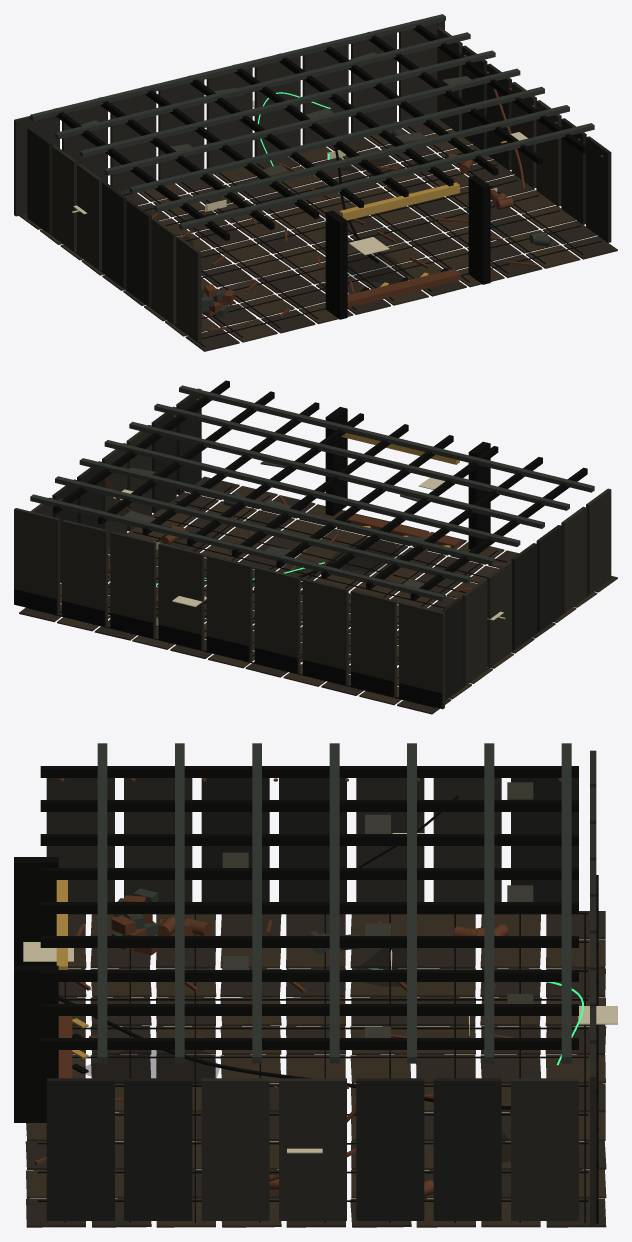
The model's file is dz_shelter_full_room_shell_premium.glb.
3 renders of one model, top to bottom at view 1: azimuth 30°, elevation 25°; view 2: azimuth 150°, elevation 25°; view 3: azimuth 270°, elevation 25°, orthographic. The views are drawn at different scales.
Parts seen in each view (by area): view 1: ceiling rib 2.85, ceiling rib 4.1, ceiling rib 0.35, ceiling rib 6.6, ceiling rib 5.35, ceiling rib 7.85, ceiling rib 1.6, back wall metal bay -2.7999999999999994, back wall metal bay 1.4000000000000004, back wall metal bay 4.440892098500626e-16, back wall metal bay 4.2, back wall metal bay -1.3999999999999995 (+74 smaller); view 2: back wall metal bay -1.3999999999999995, back wall metal bay -2.7999999999999994, back wall metal bay 2.8000000000000003, back wall metal bay 4.440892098500626e-16, back wall metal bay 4.2, back wall metal bay 5.6, back wall metal bay -5.6, back wall metal bay -4.199999999999999, back wall metal bay 1.4000000000000004, ceiling rib 2.85, ceiling rib 7.85, ceiling rib 4.1 (+45 smaller); view 3: right wall bay 1.95, right wall bay 3.2, right wall bay 5.7, right wall bay 6.95, right wall bay 8.2, right wall bay 0.7, right wall bay 4.45, exit tunnel return wall 2.08, ceiling long runner -5.2, ceiling long runner -3.9000000000000004, ceiling long runner -2.6000000000000005, ceiling long runner -1.3000000000000005 (+76 smaller).
Boxes of the visible parts, bbox=[...] form: ceiling rib 2.85: bbox=[79, 50, 495, 157]; ceiling rib 4.1: bbox=[104, 68, 520, 175]; ceiling rib 0.35: bbox=[30, 14, 445, 121]; ceiling rib 6.6: bbox=[154, 105, 569, 211]; ceiling rib 5.35: bbox=[129, 86, 544, 193]; ceiling rib 7.85: bbox=[179, 123, 594, 230]; ceiling rib 1.6: bbox=[55, 32, 470, 139]; back wall metal bay -2.7999999999999994: bbox=[110, 91, 156, 191]; back wall metal bay 1.4000000000000004: bbox=[254, 56, 300, 156]; back wall metal bay 4.440892098500626e-16: bbox=[206, 68, 252, 168]; back wall metal bay 4.2: bbox=[351, 32, 396, 132]; back wall metal bay -1.3999999999999995: bbox=[158, 80, 204, 179]; back wall metal bay -1.3999999999999995: bbox=[254, 566, 300, 673]; back wall metal bay -2.7999999999999994: bbox=[302, 578, 348, 685]; back wall metal bay 2.8000000000000003: bbox=[110, 531, 156, 638]; back wall metal bay 4.440892098500626e-16: bbox=[206, 555, 252, 662]; back wall metal bay 4.2: bbox=[62, 519, 107, 626]; back wall metal bay 5.6: bbox=[14, 508, 59, 615]; back wall metal bay -5.6: bbox=[399, 602, 444, 709]; back wall metal bay -4.199999999999999: bbox=[351, 590, 396, 697]; back wall metal bay 1.4000000000000004: bbox=[158, 543, 204, 650]; ceiling rib 2.85: bbox=[79, 458, 495, 565]; ceiling rib 7.85: bbox=[179, 385, 594, 492]; ceiling rib 4.1: bbox=[104, 440, 520, 546]; right wall bay 1.95: bbox=[433, 1078, 501, 1220]; right wall bay 3.2: bbox=[356, 1078, 424, 1220]; right wall bay 5.7: bbox=[201, 1078, 269, 1220]; right wall bay 6.95: bbox=[124, 1078, 192, 1220]; right wall bay 8.2: bbox=[46, 1078, 114, 1220]; right wall bay 0.7: bbox=[511, 1078, 578, 1220]; right wall bay 4.45: bbox=[279, 1078, 346, 1220]; exit tunnel return wall 2.08: bbox=[14, 965, 58, 1122]; ceiling long runner -5.2: bbox=[40, 766, 578, 777]; ceiling long runner -3.9000000000000004: bbox=[40, 800, 578, 811]; ceiling long runner -2.6000000000000005: bbox=[40, 834, 578, 845]; ceiling long runner -1.3000000000000005: bbox=[40, 868, 578, 879].
Size of the model in its own units: 12.53 by 3.06 by 9.76.
